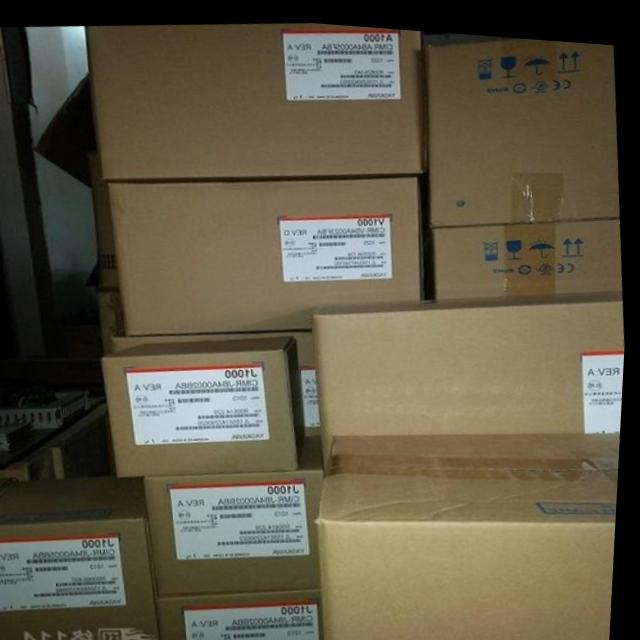box: (324, 424, 624, 640), (321, 278, 628, 465), (85, 20, 421, 175), (110, 169, 422, 333), (420, 24, 621, 218), (150, 422, 329, 593), (105, 331, 311, 475), (0, 473, 168, 640), (430, 207, 623, 294), (161, 581, 327, 640)
